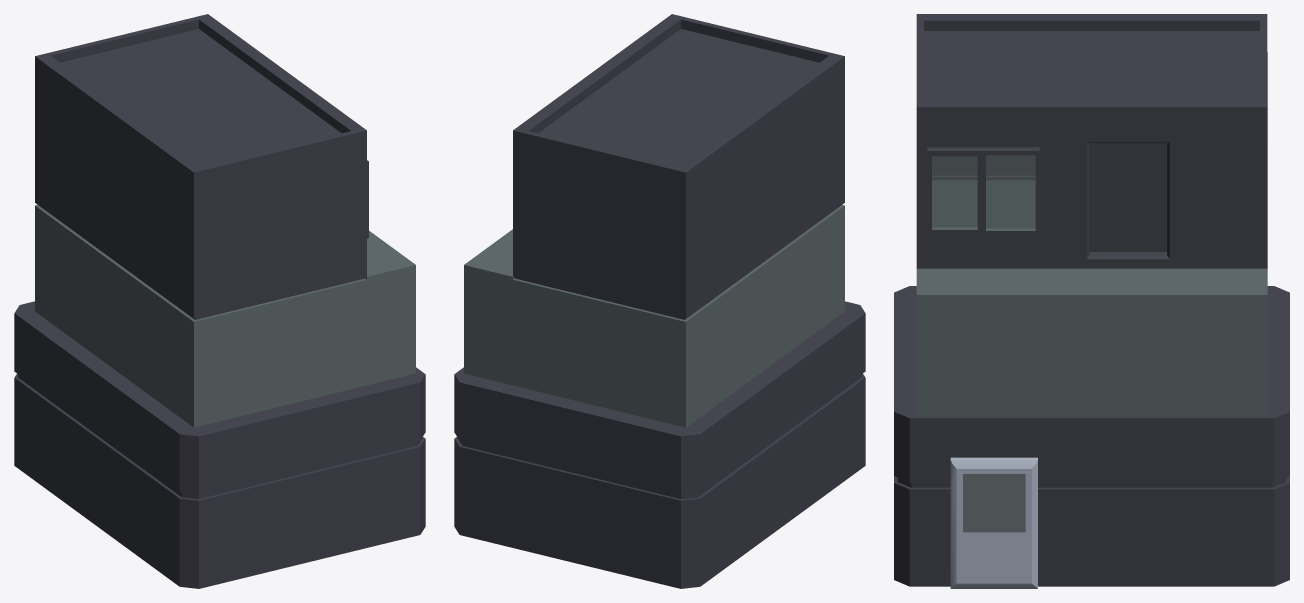
File: 7_Scaffolding.fbx
3 views of the same model, side by side, from view 1: azimuth 30°, elevation 25°; view 2: azimuth 150°, elevation 25°; view 3: azimuth 270°, elevation 25° (orthographic). The views are drawn at different scales.
Parts seen in each view (by area): view 1: pasted__pCube17, pasted__pCube18; view 2: pasted__pCube17, pasted__pCube18; view 3: pasted__pCube17, pasted__pCube18.
Boxes of the visible parts, left/top/right/bottom form: pasted__pCube17: left=35, top=14, right=415, bottom=427; pasted__pCube18: left=14, top=301, right=425, bottom=588; pasted__pCube17: left=464, top=14, right=844, bottom=427; pasted__pCube18: left=454, top=301, right=865, bottom=588; pasted__pCube17: left=916, top=14, right=1267, bottom=414; pasted__pCube18: left=894, top=286, right=1289, bottom=588.
Size of the model in its own units: 5.19 by 7.99 by 6.37.
